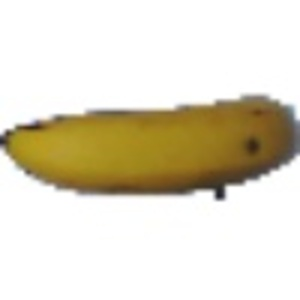banana: (2, 93, 298, 205)
